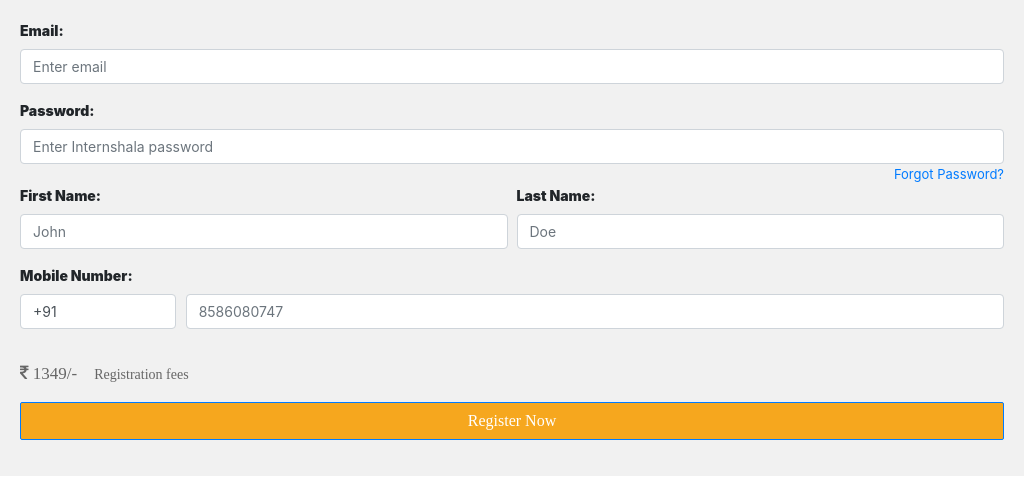
Scenario: First and Last Name Form Field Tests › it should detect valid first and last names
In the field with test id "first_name": (264, 231) [20,214,508,249], type "aashiskumar986@gmail.com"
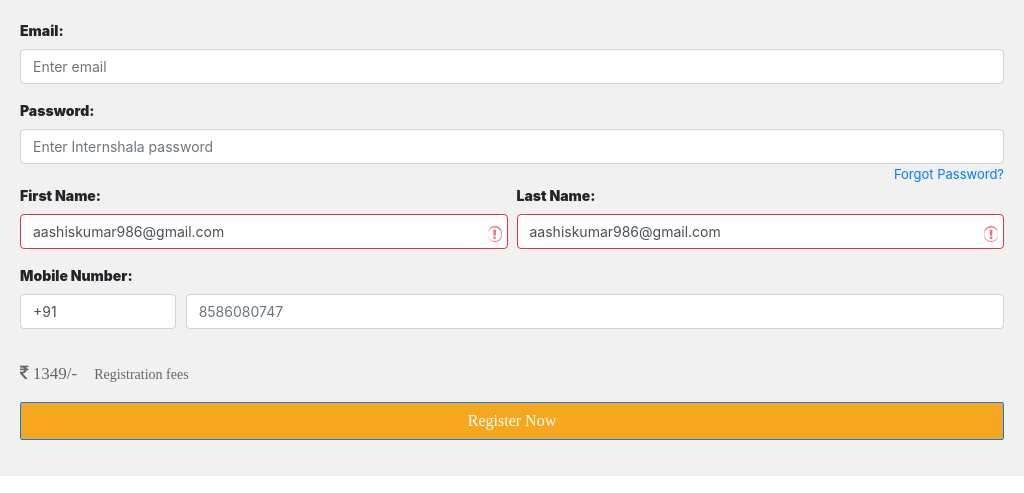
Now the field with test id "last_name" holds "aashiskumar986@gmail.com", box [516,214,1004,249]
